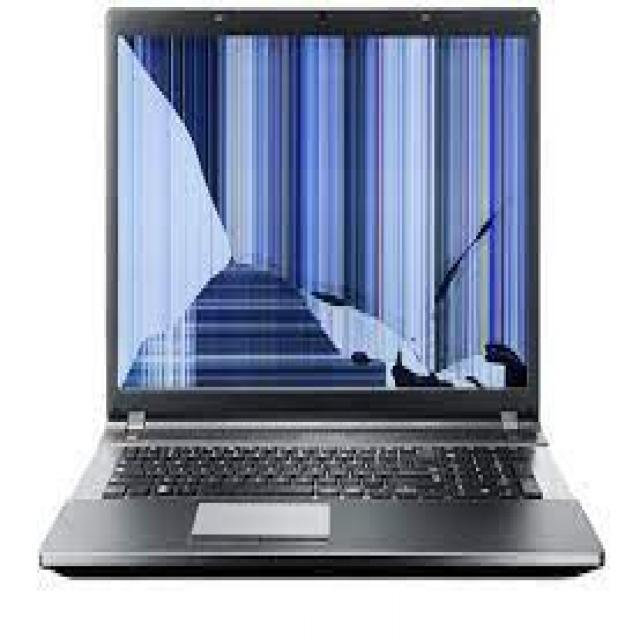Screen cracks: (116, 35, 530, 394)
